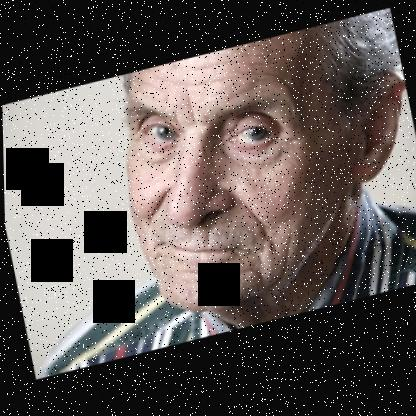Male: (103, 12, 416, 323)
